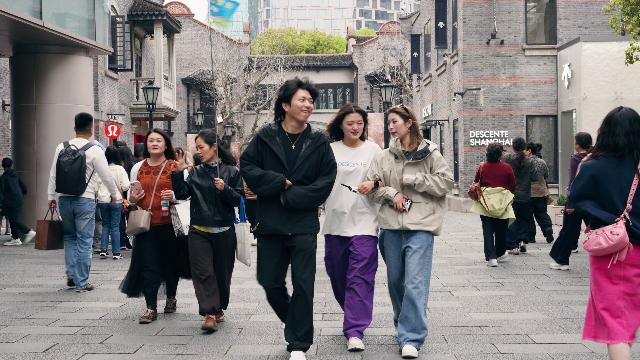person: (238, 76, 337, 360), (368, 101, 455, 359), (567, 106, 640, 360), (168, 129, 246, 334), (320, 104, 384, 352), (126, 117, 189, 340), (46, 112, 124, 292), (549, 132, 596, 270), (468, 142, 517, 267), (502, 136, 541, 255), (95, 146, 130, 260), (0, 158, 36, 246), (525, 142, 555, 244)
